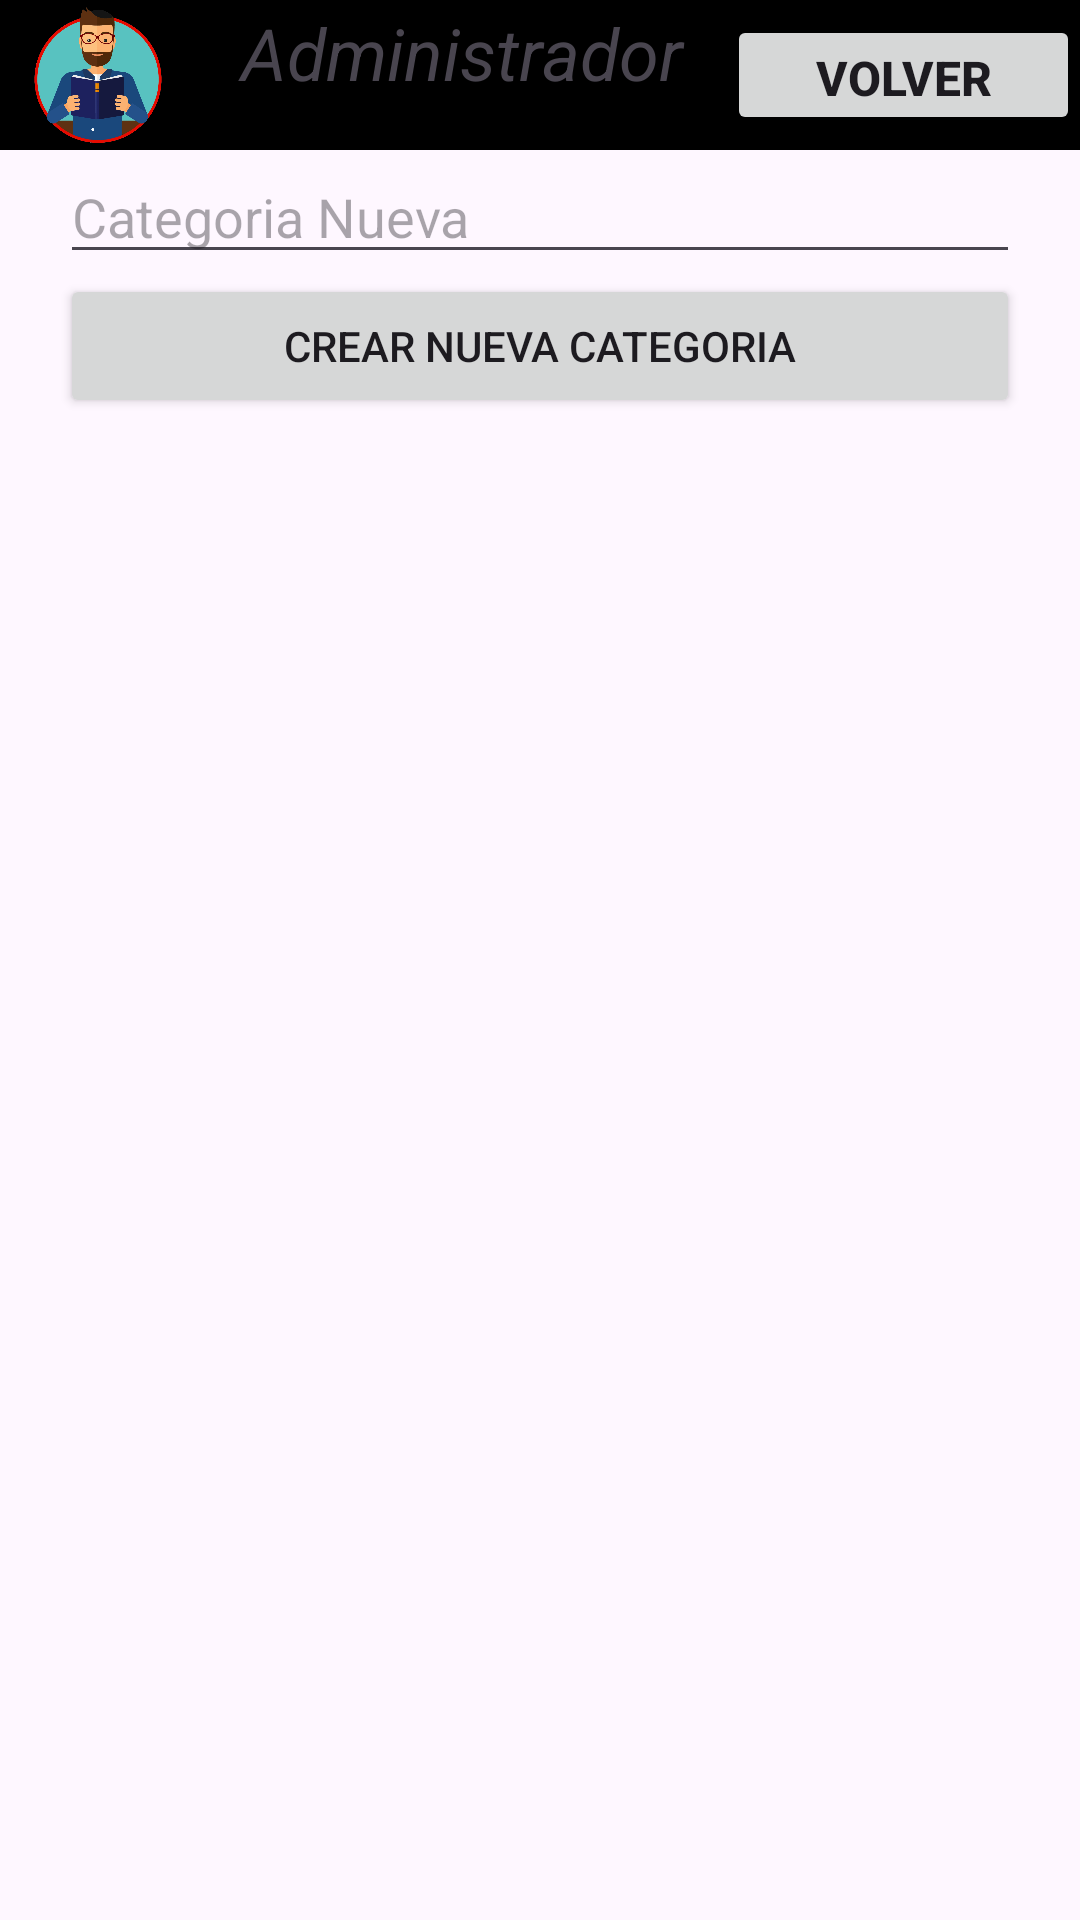

Named icons in this screenshot (1080×1920) and their centers, (x=x, y=y):
man: (x=98, y=75)
